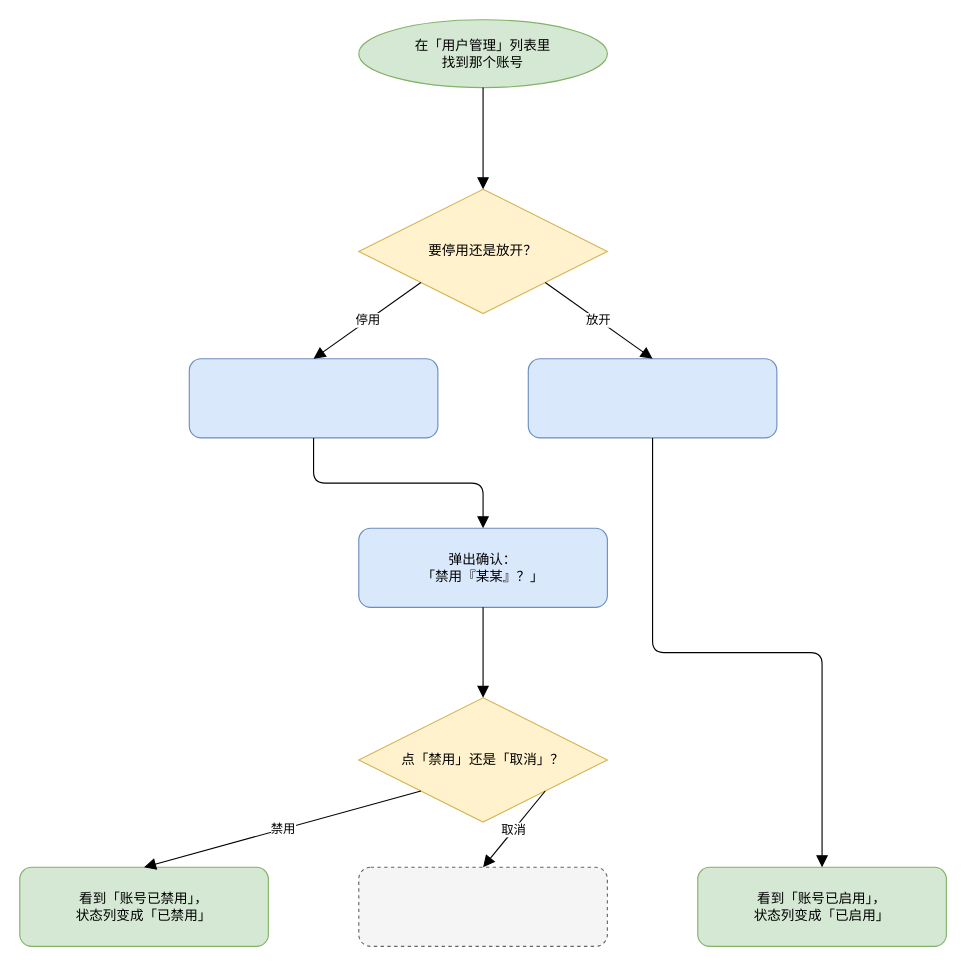
Some shapes in this 966 by 966 pixel diagram are drawn without their labels. The shapes that lost their labels are listed below. From the top down, each one's centre as x and y in pixels, then its label:
the point at 313,398: 点「禁用」
the point at 652,398: 点「启用」
the point at 482,906: 点「取消」， 账号不受影响
